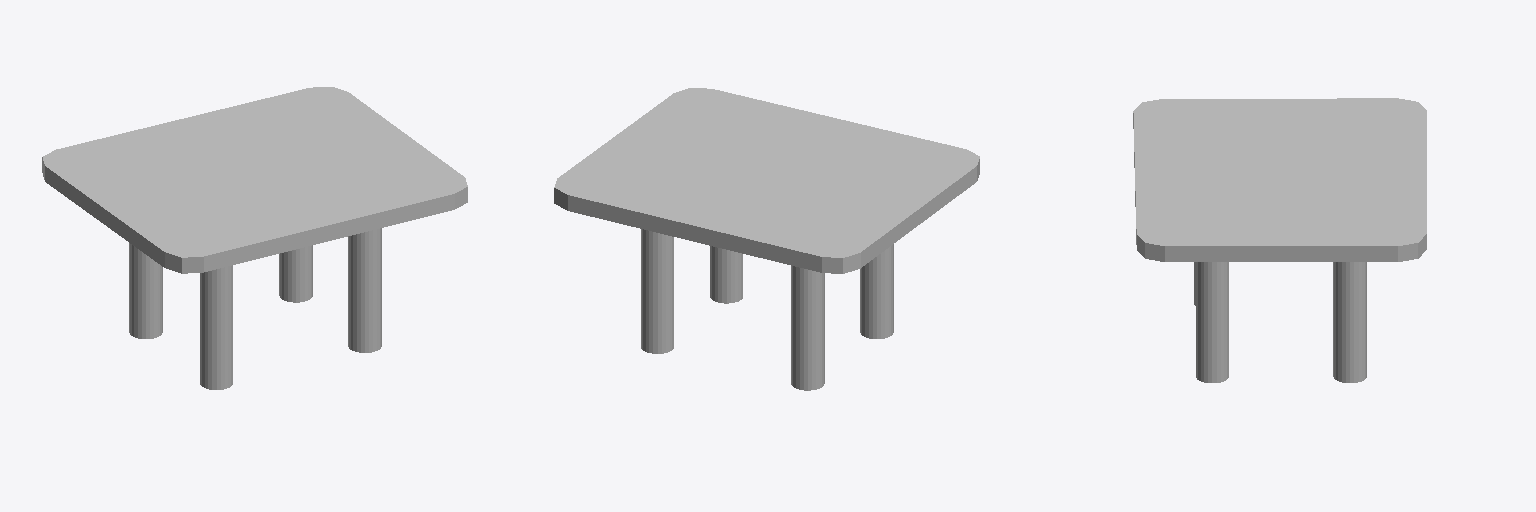
Rendered from item_shop.obj.
The picture shows the model from 3 angles: view 1: azimuth 30°, elevation 25°; view 2: azimuth 150°, elevation 25°; view 3: azimuth 270°, elevation 25°; orthographic projection.
Visible parts, largest first — view 1: Cylinder.002; view 2: Cylinder.002; view 3: Cylinder.002.
Boxes of the visible parts, x1=… form: Cylinder.002: x1=42, y1=87, x2=467, y2=389; Cylinder.002: x1=554, y1=88, x2=979, y2=390; Cylinder.002: x1=1133, y1=98, x2=1426, y2=382.
Size of the model in its own units: 1.36 by 0.7148 by 1.13.